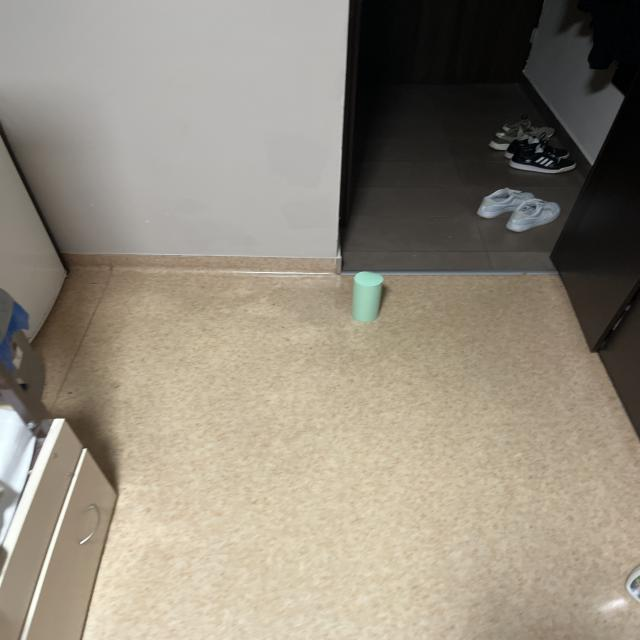meta: (352, 272, 383, 322)
